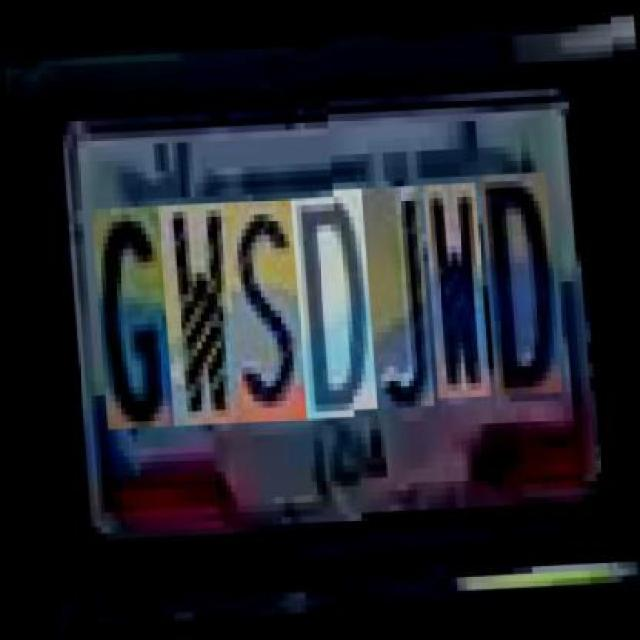d: (287, 192, 371, 416), (476, 178, 556, 400)
g: (88, 201, 168, 424)
j: (358, 190, 428, 412)
s: (221, 195, 301, 418)
w: (154, 198, 234, 420), (420, 187, 485, 404)
